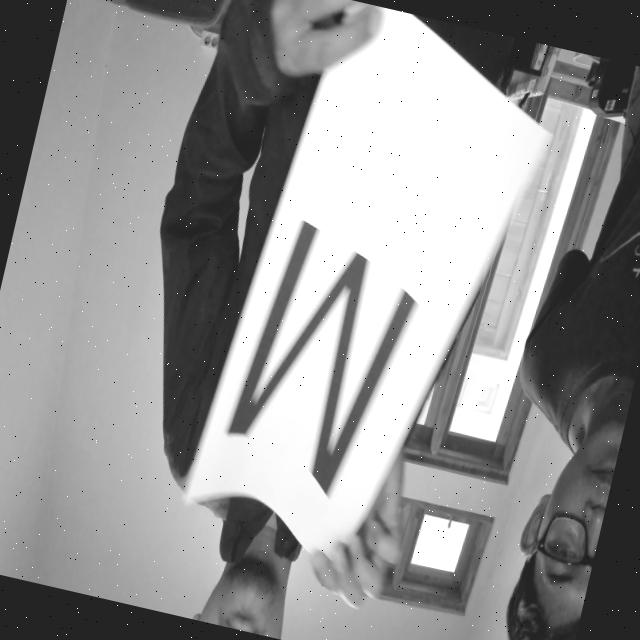m: (211, 180, 444, 521)
